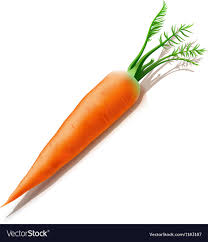carrot: (12, 60, 151, 214)
